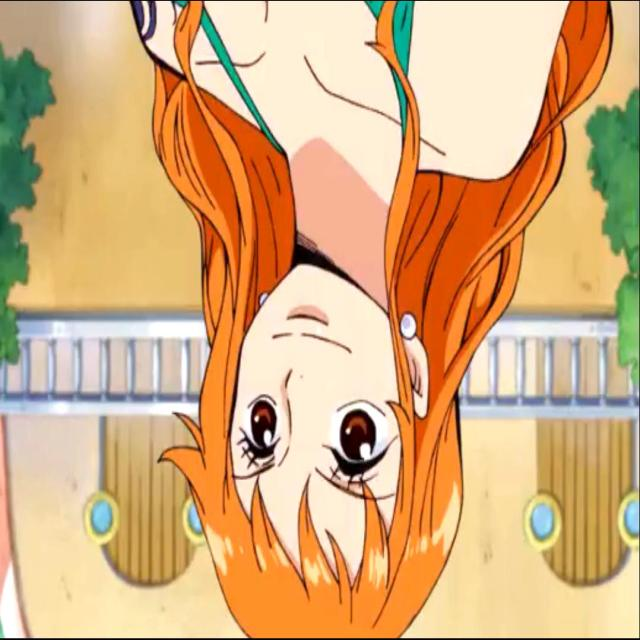Nami: (114, 0, 568, 635)
